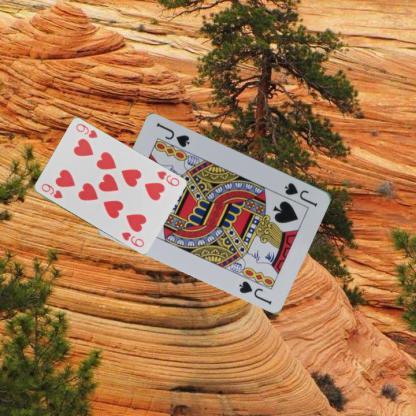9h: (154, 168, 180, 188), (38, 181, 64, 200)
Js: (282, 180, 319, 209)
